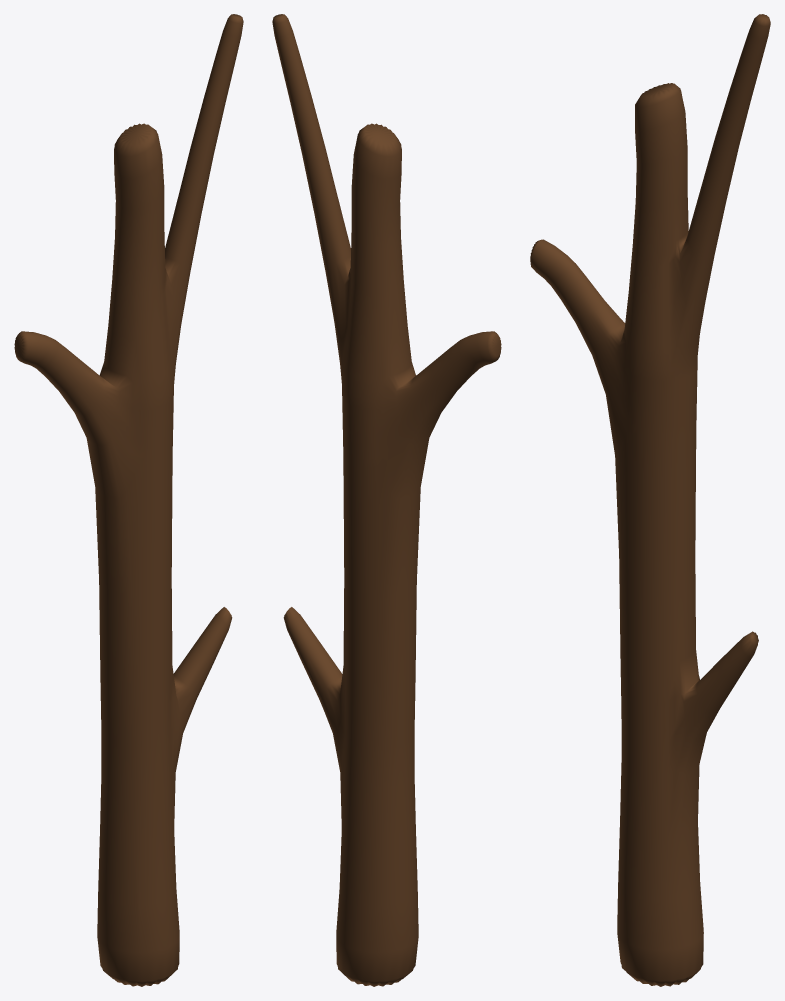
The model's file is Big_Branch_FBX.fbx.
3 views of the same model, side by side, from view 1: azimuth 30°, elevation 25°; view 2: azimuth 150°, elevation 25°; view 3: azimuth 330°, elevation 25° (orthographic). The views are drawn at different scales.
Visible parts, largest first — view 1: Big_Branch; view 2: Big_Branch; view 3: Big_Branch.
Boxes of the visible parts, <box> form: Big_Branch: <box>14,14,243,986</box>; Big_Branch: <box>272,14,501,986</box>; Big_Branch: <box>530,14,770,986</box>.
Bounding box in the file's own units: 2.21 × 8.81 × 0.7051.
